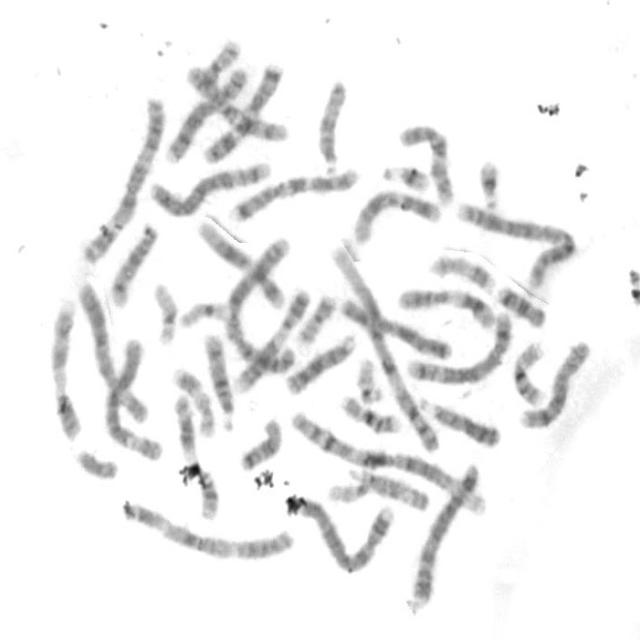A1: (328, 235, 443, 457), (287, 406, 488, 520)
A2: (453, 198, 578, 290), (224, 231, 294, 392)
A3: (80, 92, 169, 268), (117, 496, 297, 562)
B4: (407, 467, 484, 605), (285, 491, 395, 574)
B5: (403, 308, 515, 386), (145, 157, 272, 218)
C10: (184, 63, 291, 144), (395, 120, 456, 207)
C11: (171, 391, 220, 522), (393, 283, 498, 330)
C12: (195, 217, 286, 311), (350, 186, 442, 246)
C6: (74, 276, 151, 424), (100, 335, 163, 463)
C7: (199, 58, 288, 164), (228, 162, 364, 224)
C8: (162, 63, 250, 167), (516, 336, 593, 432)
C9: (230, 286, 313, 395), (49, 296, 84, 444)
D13: (282, 330, 357, 398), (416, 392, 502, 450)
D14: (106, 219, 159, 308), (201, 328, 236, 433)
D15: (335, 466, 432, 514), (314, 76, 349, 174)
E16: (338, 392, 402, 435), (509, 337, 548, 407)
E17: (170, 364, 216, 440), (427, 251, 498, 295)
E18: (235, 414, 284, 472), (493, 282, 548, 330)
F19: (149, 280, 180, 348), (176, 296, 230, 330)
F20: (293, 290, 339, 346), (203, 38, 241, 84)
G21: (379, 160, 432, 196), (475, 156, 502, 212)
G22: (325, 468, 373, 506), (354, 354, 384, 405)
X: (338, 295, 453, 361)
Y: (73, 446, 121, 482)
